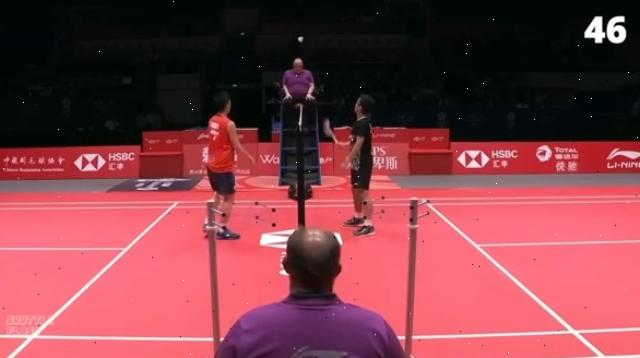Shuttlecock: (297, 34, 307, 44)
